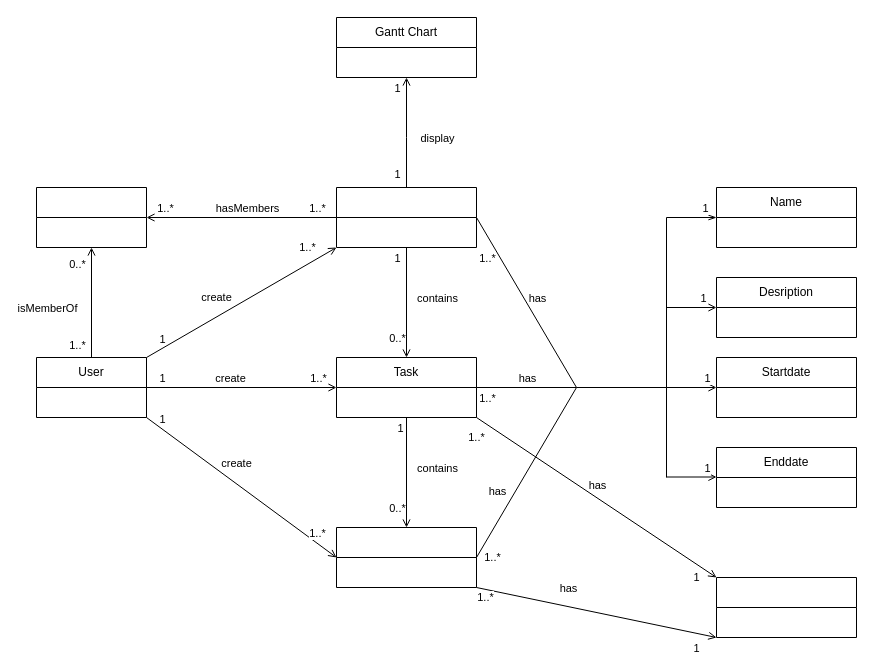
Image size: 874x672. Some labels were removed from this diagram. Each missing label, with the centre of its shape:
Project: the point at 406,217
ProjectMember: the point at 91,217
Status: the point at 786,607
Subtask: the point at 406,557
